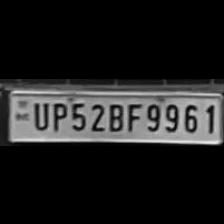1: (201, 100, 217, 132)
2: (88, 99, 104, 131)
5: (67, 98, 87, 132)
6: (179, 100, 199, 132)
9: (143, 99, 161, 131), (161, 99, 179, 131)
B: (105, 99, 125, 131)
F: (124, 99, 142, 131)
P: (48, 98, 66, 132)
U: (29, 98, 49, 130)
